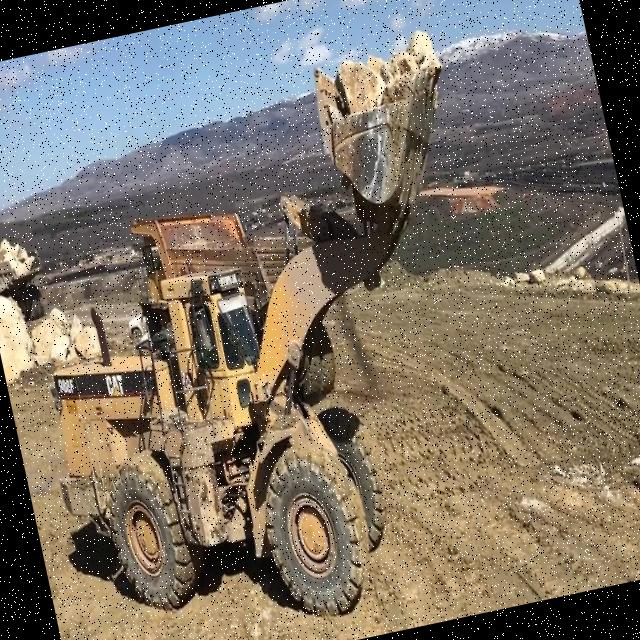Dump Truck: (0, 240, 53, 327)
Loader: (0, 39, 549, 640)
